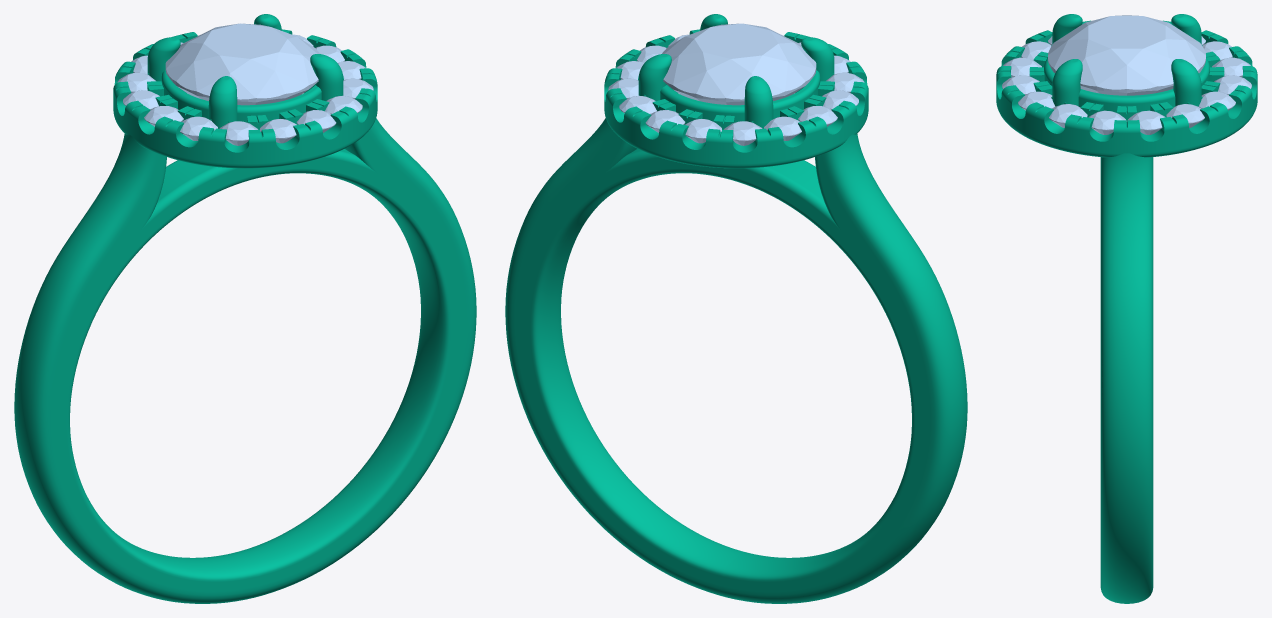
3 renders of one model, left to right at view 1: azimuth 30°, elevation 25°; view 2: azimuth 150°, elevation 25°; view 3: azimuth 270°, elevation 25°, orthographic.
Parts seen in each view (by area): view 1: JTC-8322(front).3dm, Diamond_Round; view 2: JTC-8322(front).3dm, Diamond_Round; view 3: JTC-8322(front).3dm, Diamond_Round (×13).
Part boxes in pixels (x1,y1,x2,y2): JTC-8322(front).3dm: (14, 14, 476, 603); Diamond_Round: (165, 23, 319, 105); JTC-8322(front).3dm: (505, 14, 967, 603); Diamond_Round: (662, 23, 816, 105); JTC-8322(front).3dm: (996, 14, 1257, 603); Diamond_Round (×13): (1002, 15, 1251, 134).
Bounding box in the file's own units: 2.47 × 2.89 × 1.25.
